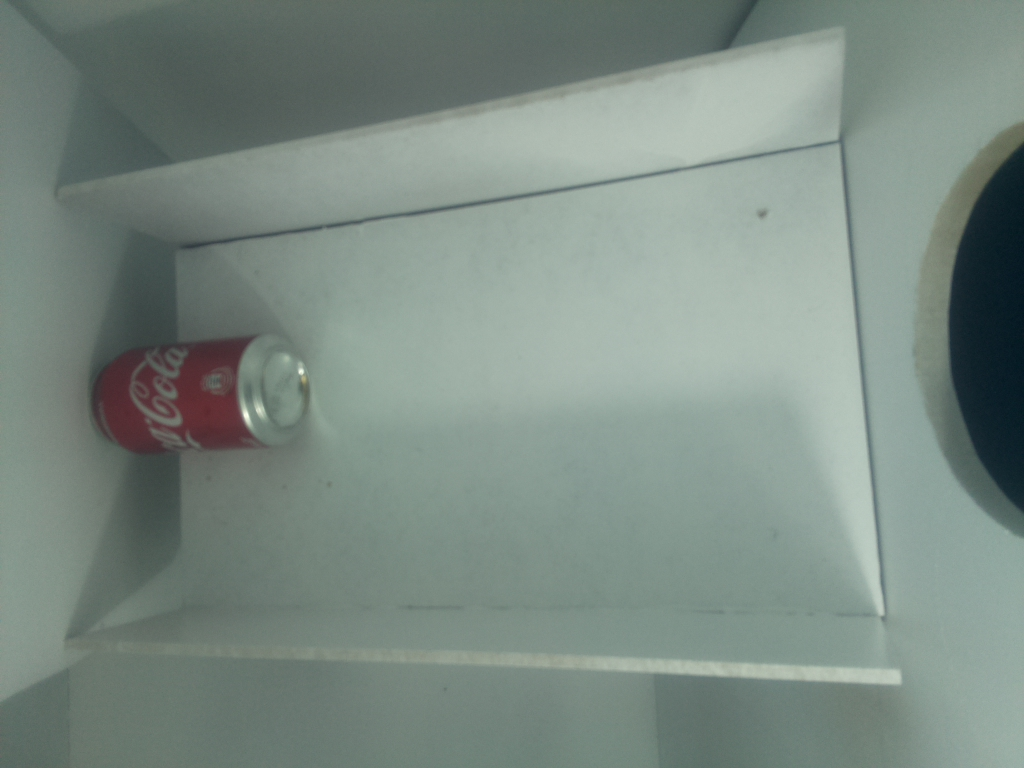kaleng: (91, 335, 312, 460)
